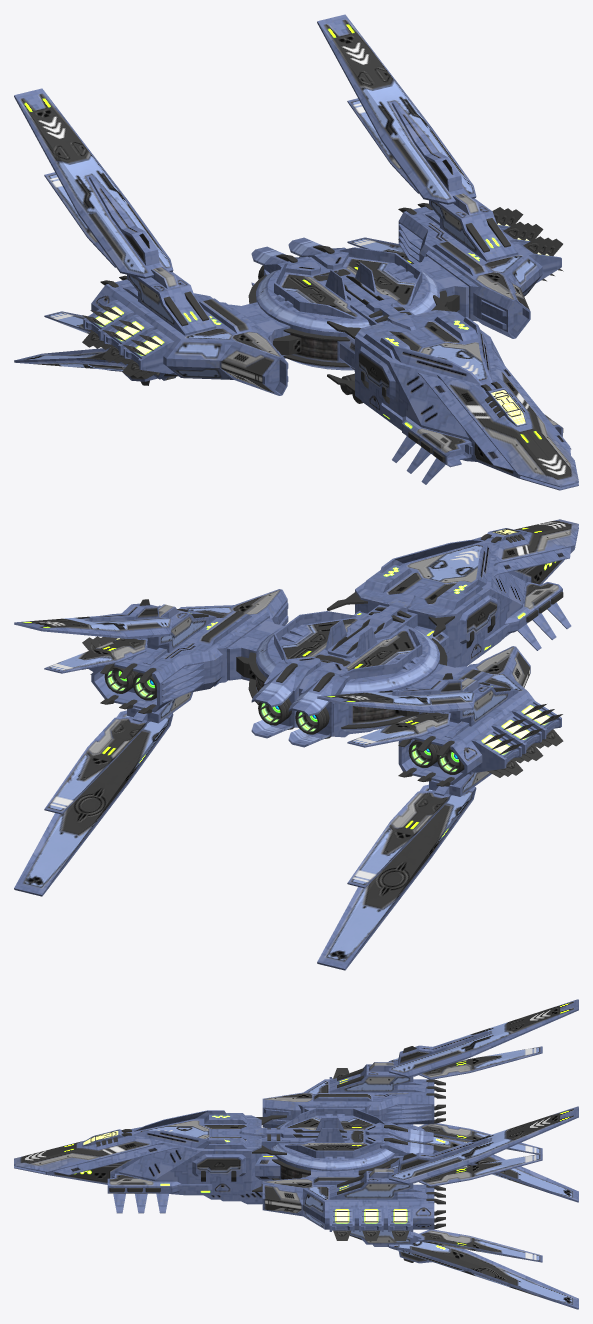
The model's file is skiff-wayfarer.glb.
3 views of the same model, one above another, from view 1: azimuth 30°, elevation 25°; view 2: azimuth 150°, elevation 25°; view 3: azimuth 270°, elevation 25° (orthographic). The views are drawn at different scales.
Parts seen in each view (by area): view 1: hull; view 2: hull; view 3: hull.
Boxes of the visible parts, left/top/right/bottom form: hull: left=14, top=14, right=578, bottom=490; hull: left=14, top=519, right=578, bottom=970; hull: left=14, top=999, right=578, bottom=1309.
Bounding box in the file's own units: 0.6427 × 0.3785 × 1.
Materials: 1 (1 with a texture image).
